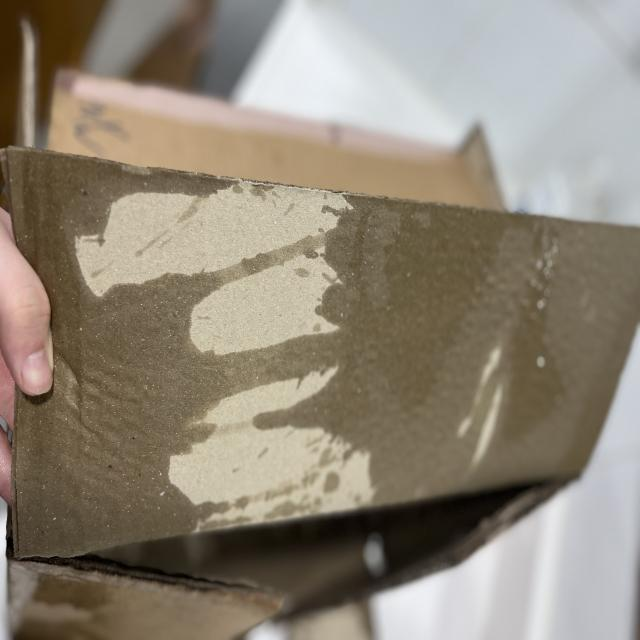wet: (13, 174, 640, 509)
